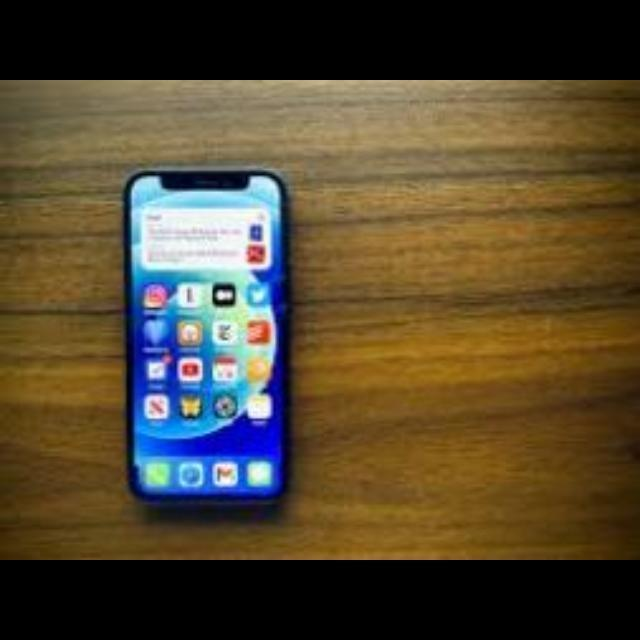phone: (124, 170, 296, 518)
